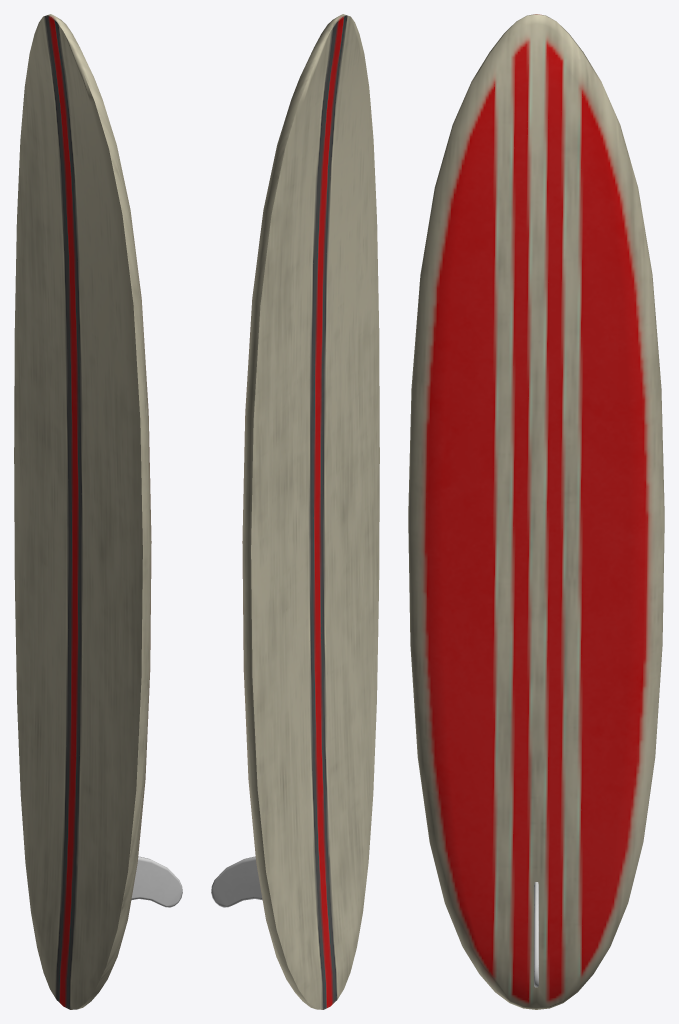
The model's file is MB_Surfboard_02.fbx.
3 renders of one model, left to right at view 1: azimuth 30°, elevation 25°; view 2: azimuth 150°, elevation 25°; view 3: azimuth 270°, elevation 25°, orthographic.
Visible parts, largest first — view 1: MB_Surfboard_02_LOD0; view 2: MB_Surfboard_02_LOD0; view 3: MB_Surfboard_02_LOD0.
Boxes of the visible parts, x1=… form: MB_Surfboard_02_LOD0: x1=14, y1=14, x2=182, y2=1009; MB_Surfboard_02_LOD0: x1=211, y1=14, x2=379, y2=1009; MB_Surfboard_02_LOD0: x1=408, y1=14, x2=664, y2=1009.
Size of what is drawn, in the model's own units: 25.03 by 183 by 42.94.
